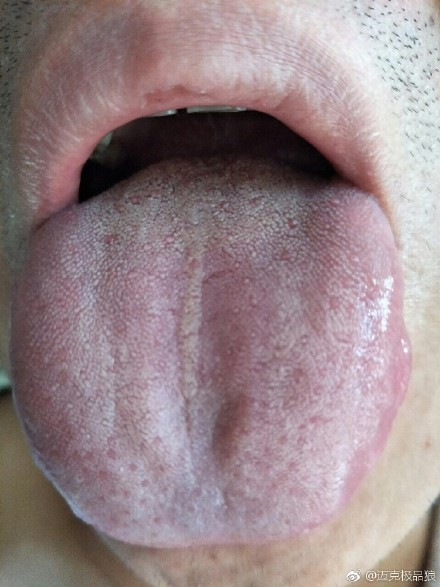baitaishe: (10, 150, 412, 547)
pangdashe: (10, 150, 412, 547)
